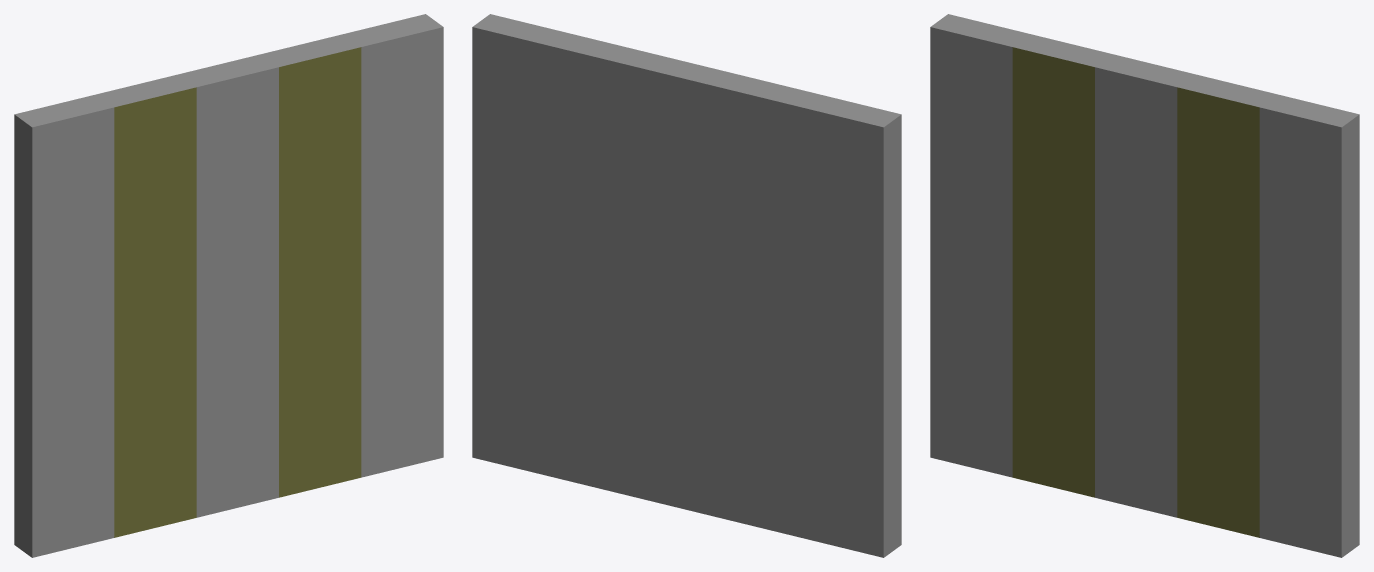
File: Wall.fbx
3 renders of one model, left to right at view 1: azimuth 30°, elevation 25°; view 2: azimuth 150°, elevation 25°; view 3: azimuth 330°, elevation 25°, orthographic.
Visible parts, largest first — view 1: Wall; view 2: Wall; view 3: Wall.
Part boxes in pixels (x1,y1,x2,y2): Wall: (14,14,443,557); Wall: (472,14,901,557); Wall: (930,14,1359,557).
Bounding box in the file's own units: 400 × 400 × 30.
